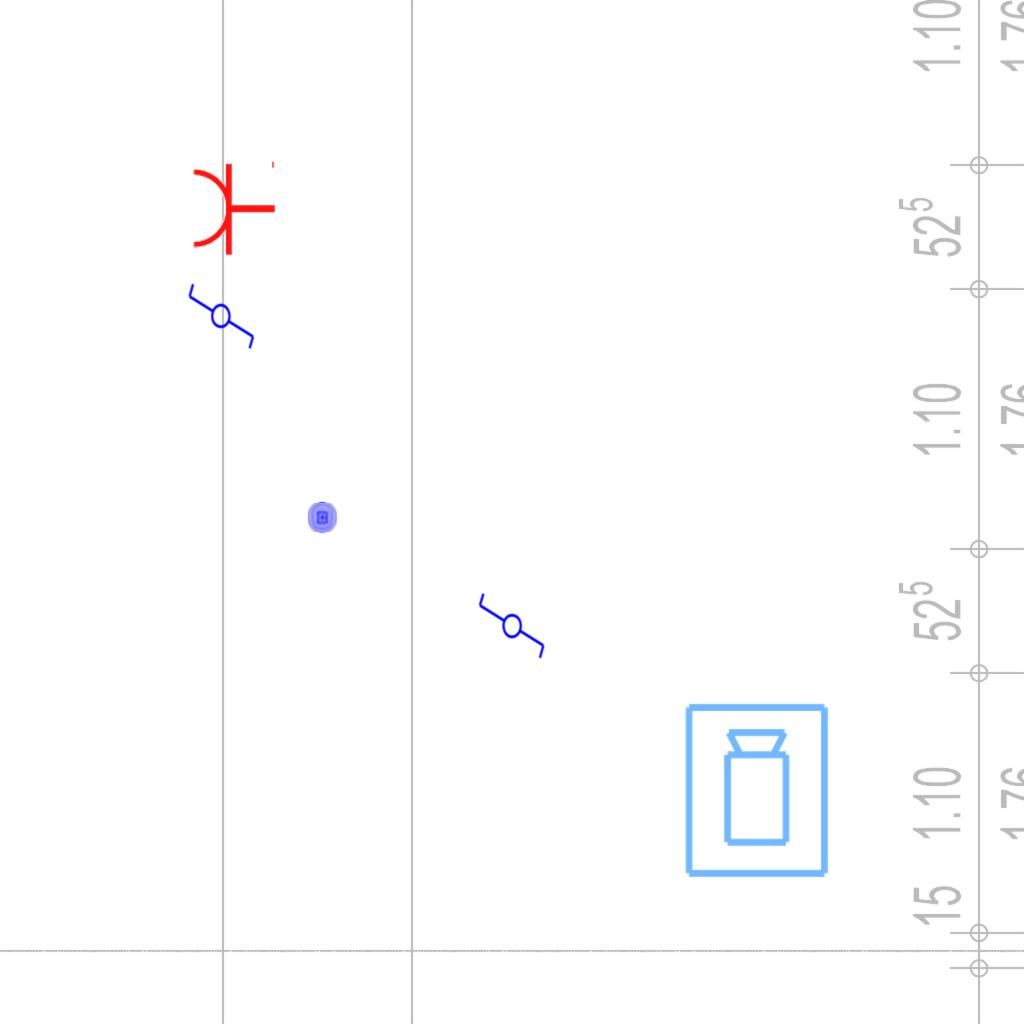KFO_Kamera_mit_Festobjektiv: (681, 700, 835, 882)
Schukosteckdose_einfach: (190, 157, 277, 257)
Taster_beleuchtet: (306, 501, 339, 534)
Wechselschalter: (186, 273, 258, 351), (475, 591, 547, 669)
